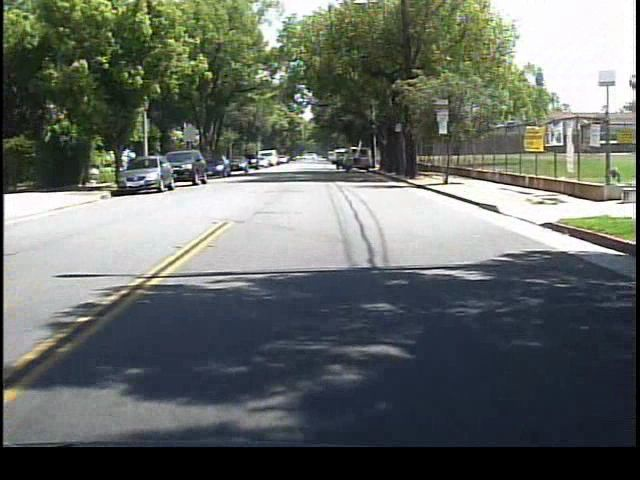person: (330, 147, 346, 172)
